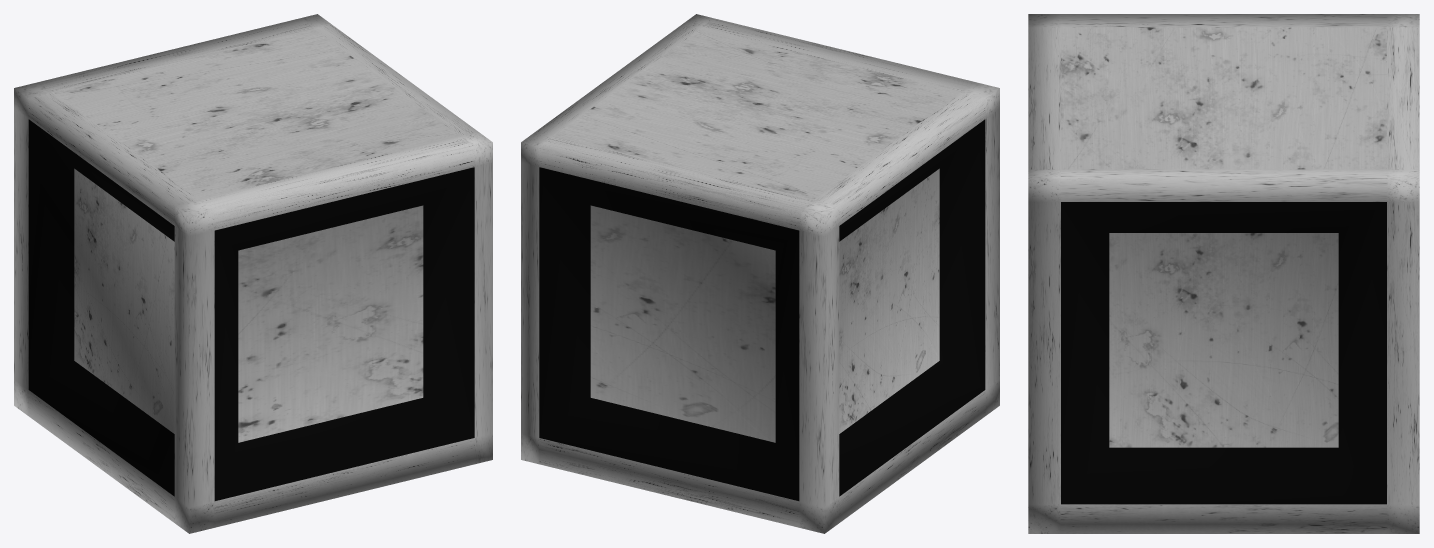
The model's file is Metal.gltf.
The picture shows the model from 3 angles, left to right: view 1: azimuth 30°, elevation 25°; view 2: azimuth 150°, elevation 25°; view 3: azimuth 270°, elevation 25°; orthographic projection. The views are drawn at different scales.
Parts seen in each view (by area): view 1: Cube; view 2: Cube; view 3: Cube.
Boxes of the visible parts, x1,y1,x2,y2 form: Cube: [14, 14, 492, 533]; Cube: [521, 14, 999, 533]; Cube: [1028, 14, 1419, 533].
Size of the model in its own units: 2 by 2 by 2.
Materials: 2 (1 with a texture image).
